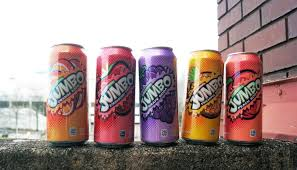can: (92, 33, 135, 150), (43, 43, 84, 146), (139, 40, 177, 149), (182, 38, 218, 149), (230, 54, 269, 154)
